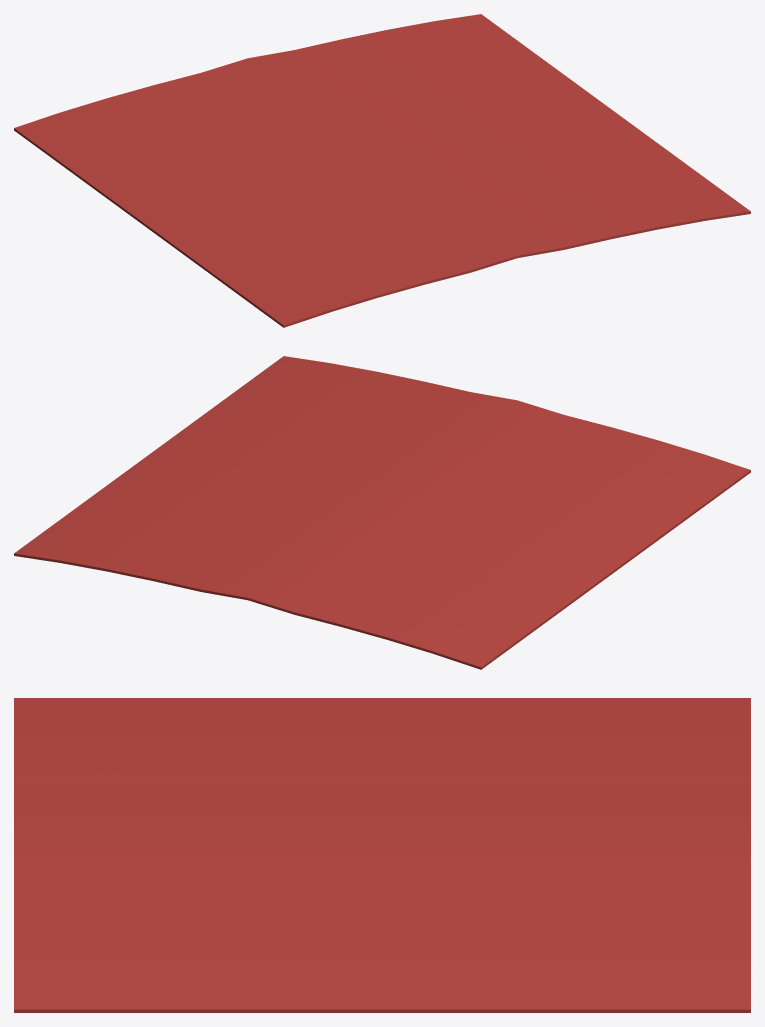
File: plastic.glb
The picture shows the model from 3 angles, top to bottom: view 1: azimuth 30°, elevation 25°; view 2: azimuth 150°, elevation 25°; view 3: azimuth 270°, elevation 25°; orthographic projection. The views are drawn at different scales.
Visible parts, largest first — view 1: lod0; view 2: lod0; view 3: lod0.
Boxes of the visible parts, <box> form: lod0: <box>14,14,750,327</box>; lod0: <box>14,356,750,669</box>; lod0: <box>14,698,750,1012</box>.
Size of what is drawn, in the model's own units: 1 by 0.031 by 1.
